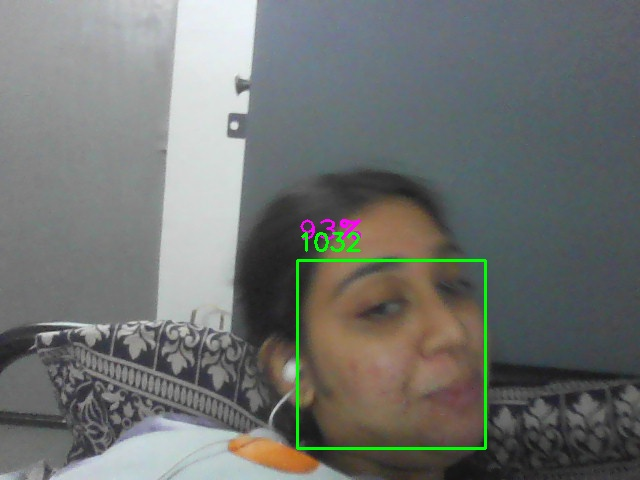real: (297, 260, 486, 449)
